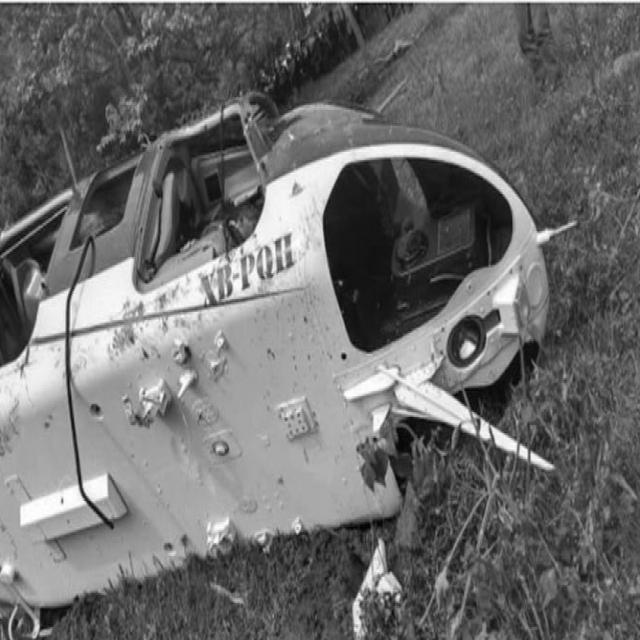helicopter: (1, 19, 566, 640)
